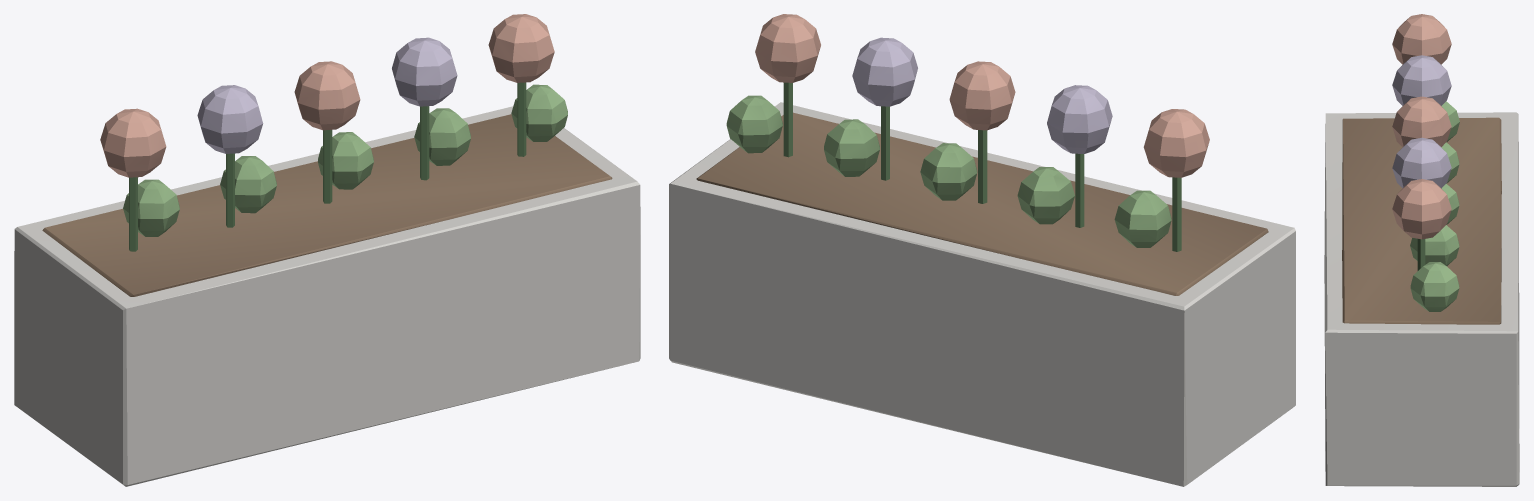
Rendered from furn_planter_box__white_low.glb.
3 views of the same model, side by side, from view 1: azimuth 30°, elevation 25°; view 2: azimuth 150°, elevation 25°; view 3: azimuth 270°, elevation 25° (orthographic). The views are drawn at different scales.
Bounding box in the file's own units: 1.2 × 0.71 × 0.45.
